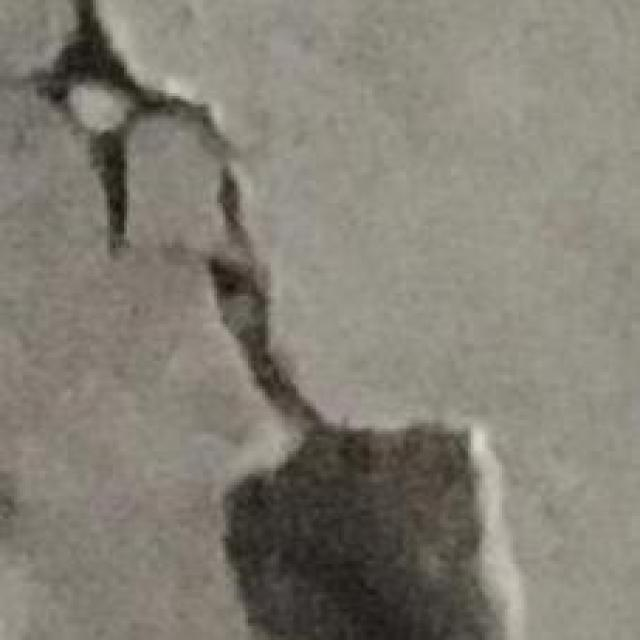Diagonal: (192, 297, 592, 640)
Turtle-shell patterned: (31, 0, 287, 295)
